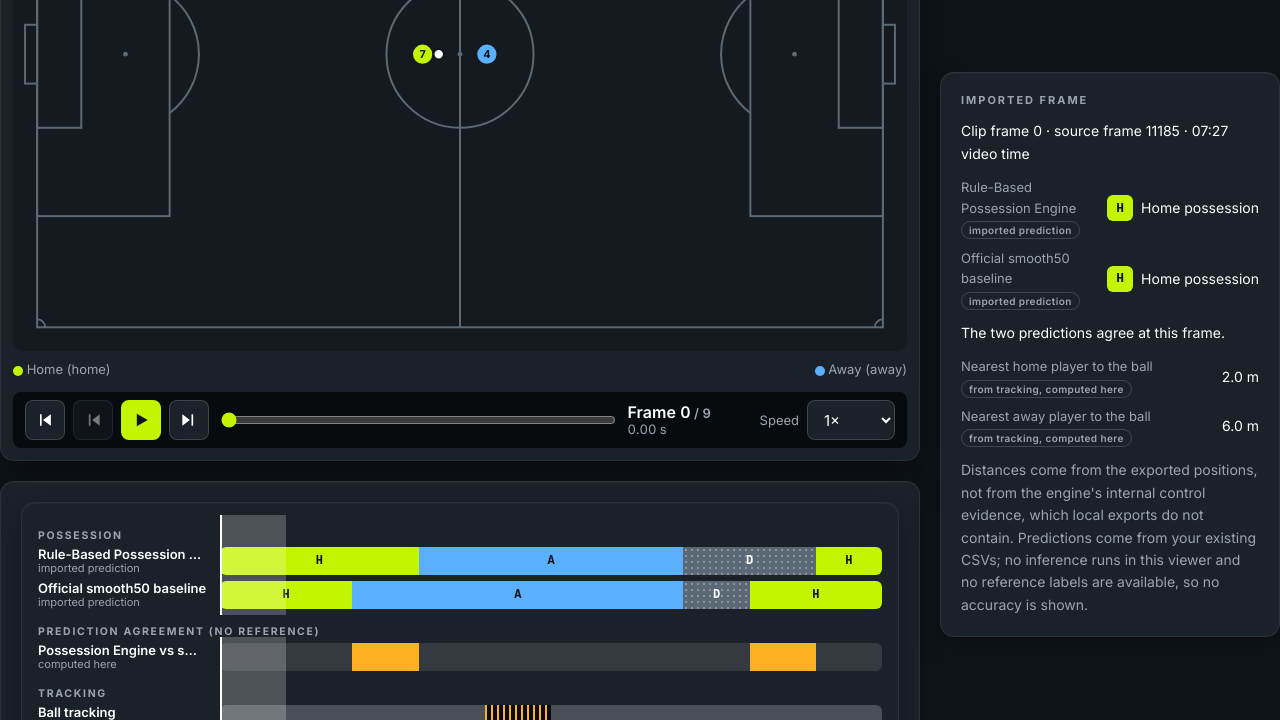
Scenario: local data source › opens the first registered export by default, with real source frame numbers
(page scrolled)
Expected: the element with test id "local-frame" shows "source frame 11185", [961, 120, 1259, 616]
Click the button named "Next frame". click: point(189, 420)
box: [169, 400, 209, 440]
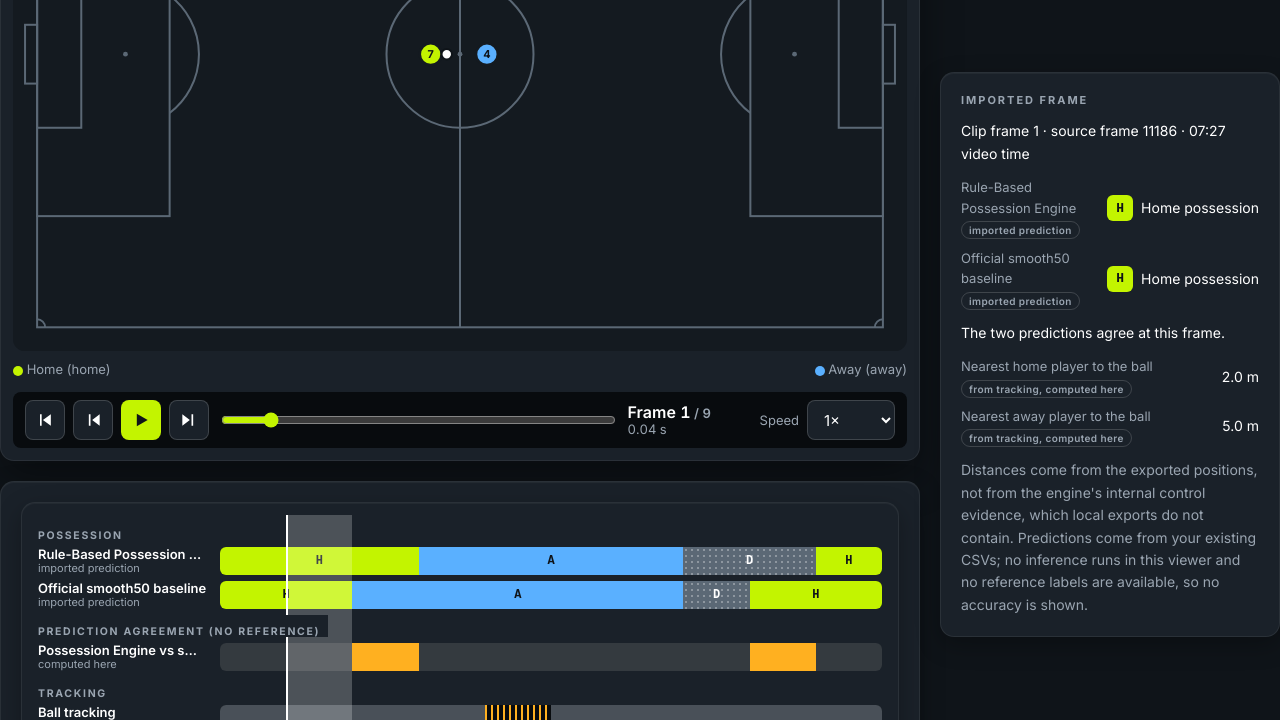
Expected: the picture with test id "track-primary" is shown, [220, 547, 882, 575]
Expected: the element with test id "local-frame" shows "Clip frame 1 · source frame 11186", [961, 120, 1259, 616]
